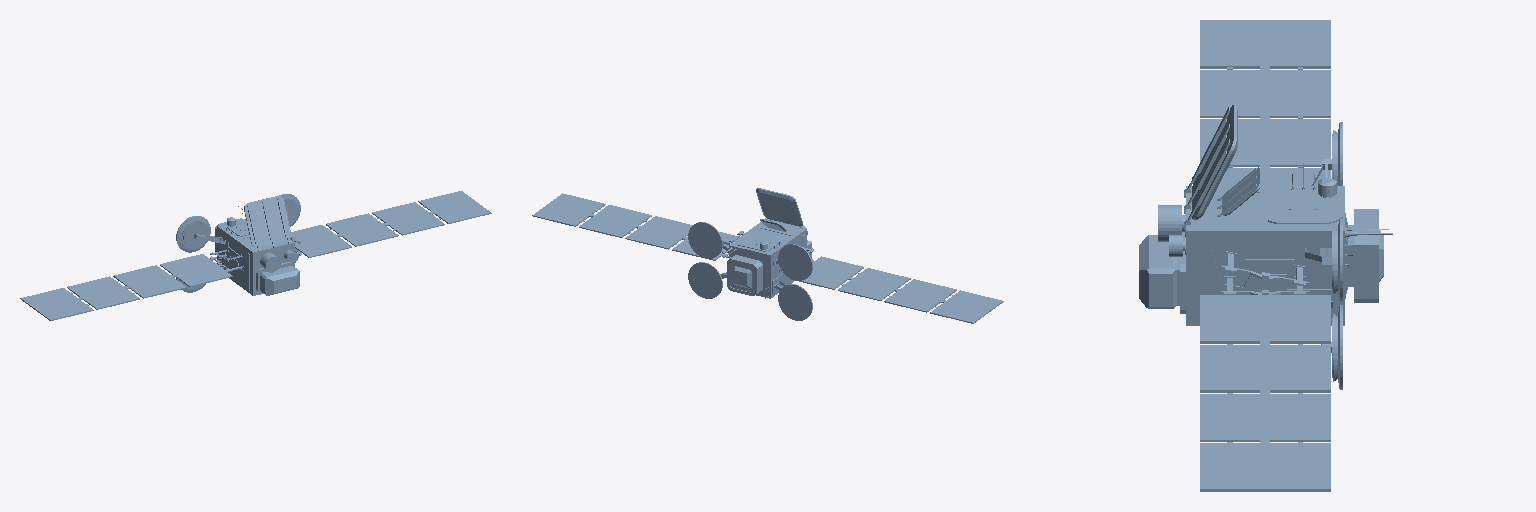
URDF robot description (uydu_mount):
<?xml version='1.0' encoding='utf-8'?>
<robot name="uydu_mount">
  <link name="base_link">
    <visual>
      <geometry>
        <mesh filename="satellite.stl" />
      </geometry>
      <material name="satellite_grey">
        <color rgba=".6 .7 .8 1" />
      </material>
    </visual>
    <collision>
      <geometry>
        <mesh filename="satellite.stl" />
      </geometry>
    </collision>
  </link>
  <link name="uydu_mount" />
  <joint name="satellite_mount_fixed" type="fixed">
    <parent link="base_link" />
    <child link="uydu_mount" />
    <origin xyz="0.15 0.15 0.4046098543457654" rpy="0.0 0.0 0.0" />
  </joint>
  <link name="mount_support">
    <visual>
      <geometry>
        <mesh filename="mount_support.stl" />
      </geometry>
      <material name="mount_green">
        <color rgba=".2 .7 .35 1" />
      </material>
    </visual>
    <collision>
      <geometry>
        <mesh filename="mount_support.stl" />
      </geometry>
    </collision>
  </link>
  <joint name="support_fixed" type="fixed">
    <parent link="uydu_mount" />
    <child link="mount_support" />
    <origin xyz="0 0 0" rpy="0 0 0" />
  </joint>
</robot>

--- What the picture shows (computed from the rendered views, not written in the file) ---
3 views of the same robot in one strip: view 1: azimuth 30°, elevation 25°; view 2: azimuth 150°, elevation 25°; view 3: azimuth 270°, elevation 25° (orthographic).
Robot: uydu_mount — 3 links, 2 joints (2 fixed); root link base_link; default pose: all joints at 0.
Links seen in each view (by area): view 1: base_link; view 2: base_link; view 3: base_link.
Link boxes in pixels (box(x1,y1,x2,y2)): base_link: box(20, 191, 491, 320); base_link: box(532, 188, 1003, 323); base_link: box(1139, 20, 1392, 491).
Size in the robot's own frame: 8 by 2.04 by 1.73 metres.
Meshes: 2 distinct files referenced, 1 mesh visuals loaded (1 binary STL); not drawn: 1 (reference not matched to a file when rendering).
